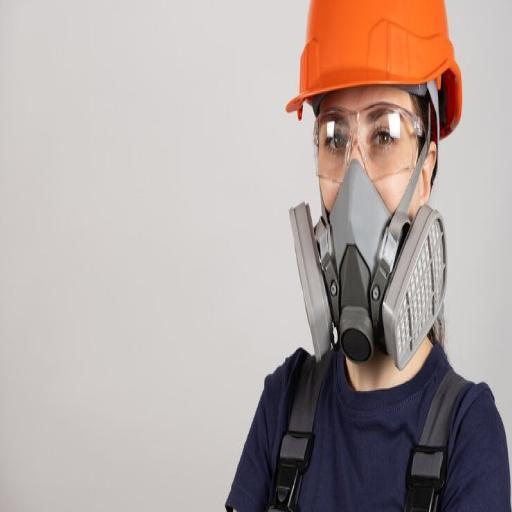mask: (287, 164, 462, 368)
